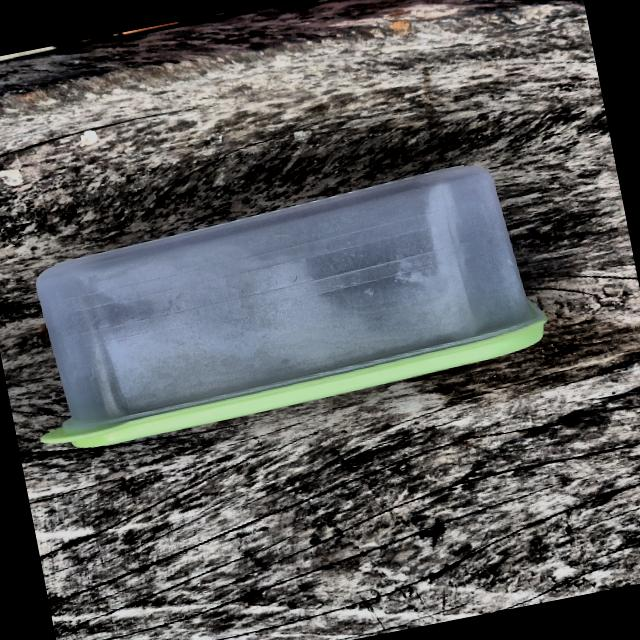plastic container: (0, 133, 581, 479)
